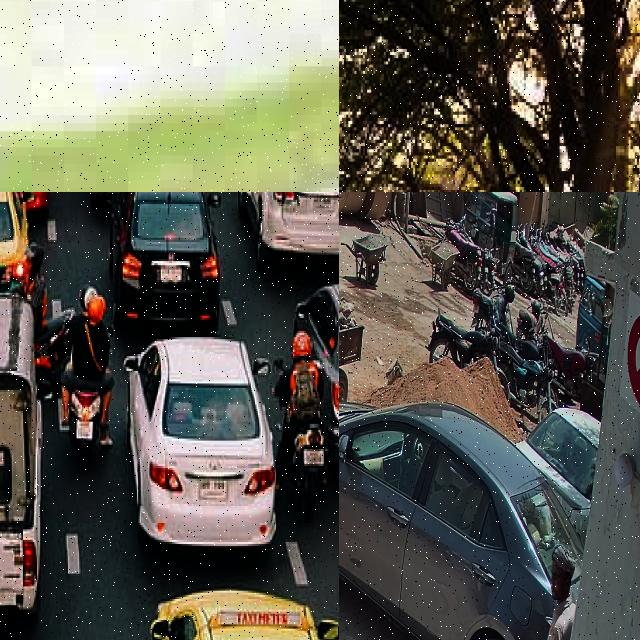bike: (60, 378, 114, 472), (426, 306, 498, 371), (499, 336, 557, 408), (288, 429, 330, 528), (444, 218, 482, 294), (547, 336, 594, 394), (497, 313, 548, 363), (471, 282, 513, 332), (516, 299, 548, 341), (514, 241, 535, 292)
car: (339, 402, 580, 640), (125, 335, 282, 550), (118, 192, 225, 338), (0, 339, 40, 620), (522, 409, 600, 528), (287, 281, 339, 453), (238, 192, 339, 273), (0, 192, 31, 289)
